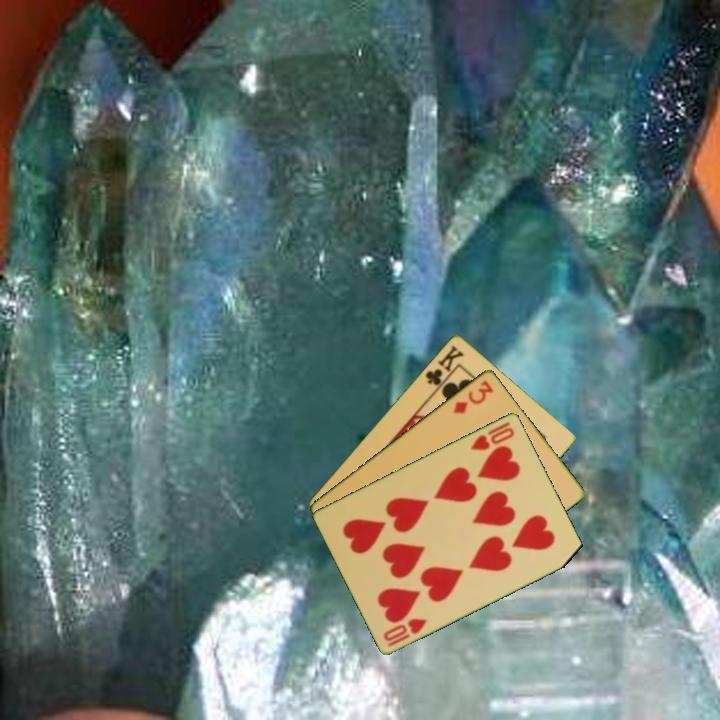10h: (467, 418, 517, 453), (380, 614, 430, 649)
3d: (449, 376, 496, 416)
Kc: (422, 341, 467, 394)
